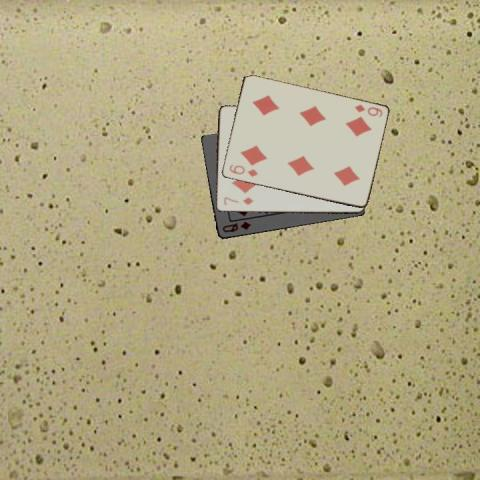6d: (352, 101, 384, 119), (226, 161, 259, 178)
7d: (221, 194, 255, 207)
Qd: (219, 219, 252, 234)
